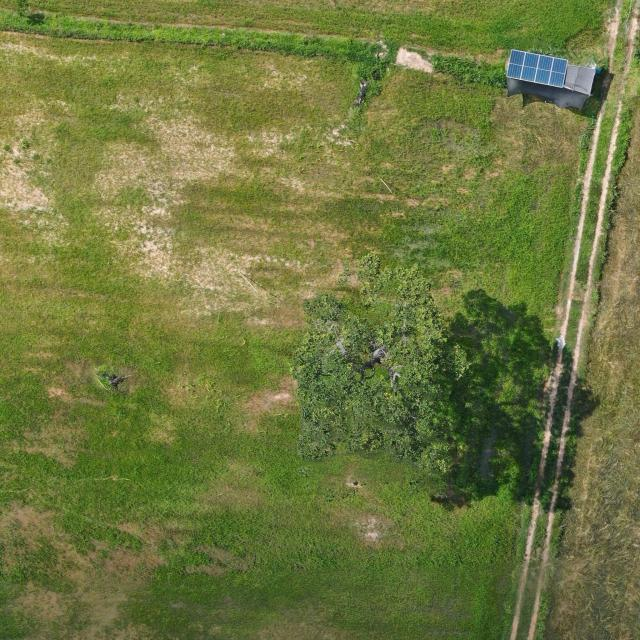Tree: (290, 248, 472, 477)
